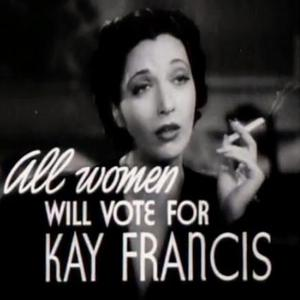cigarette: (223, 115, 267, 145)
